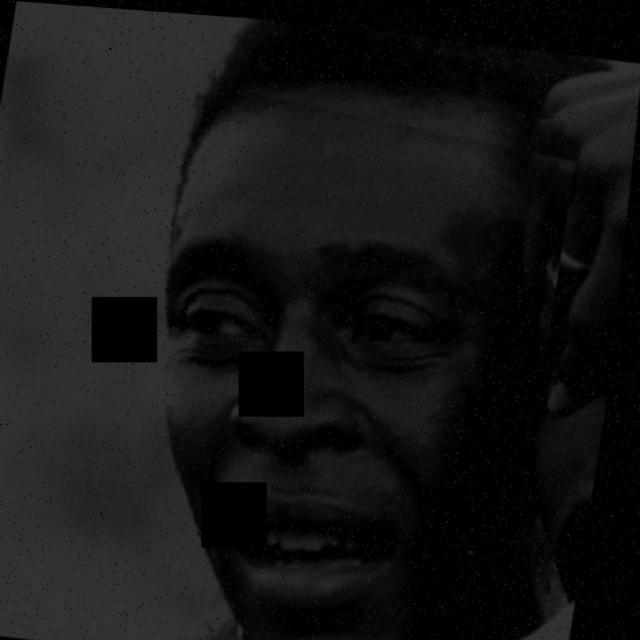Sad: (143, 94, 524, 640)
